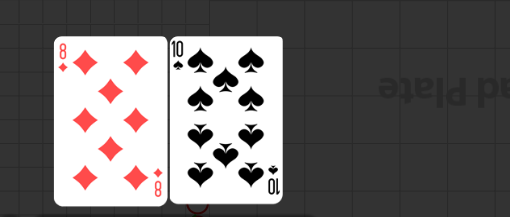10S: (267, 164, 281, 197)
8D: (152, 167, 164, 199)
